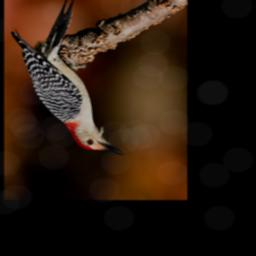Woodpecker: (9, 0, 125, 156)
